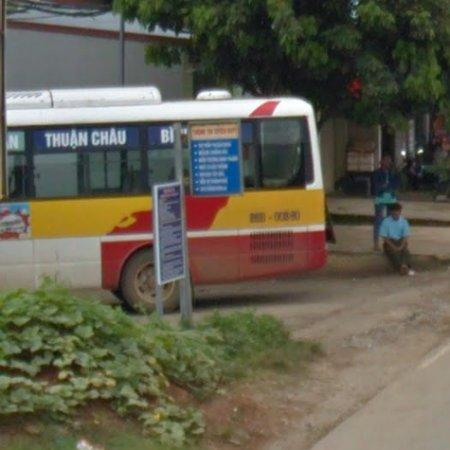buses: (0, 87, 326, 310)
